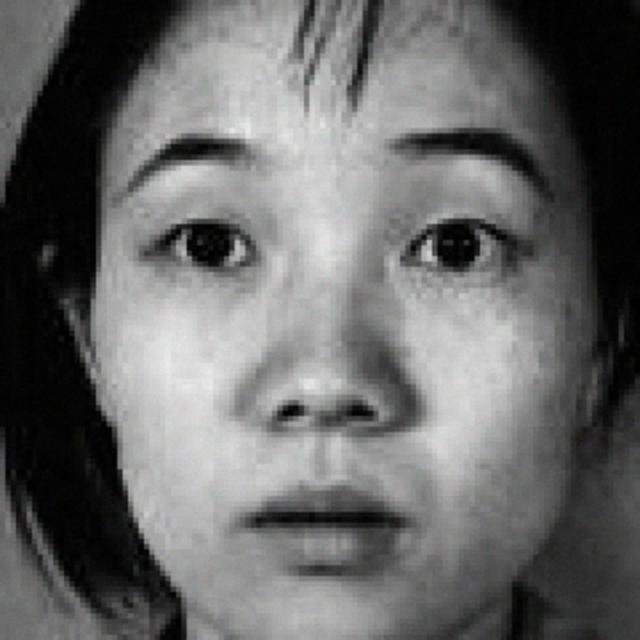surprise: (97, 24, 568, 640)
